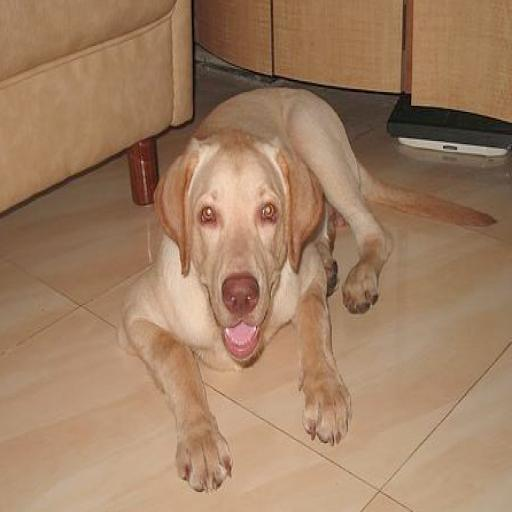dog_face: (160, 133, 319, 358)
